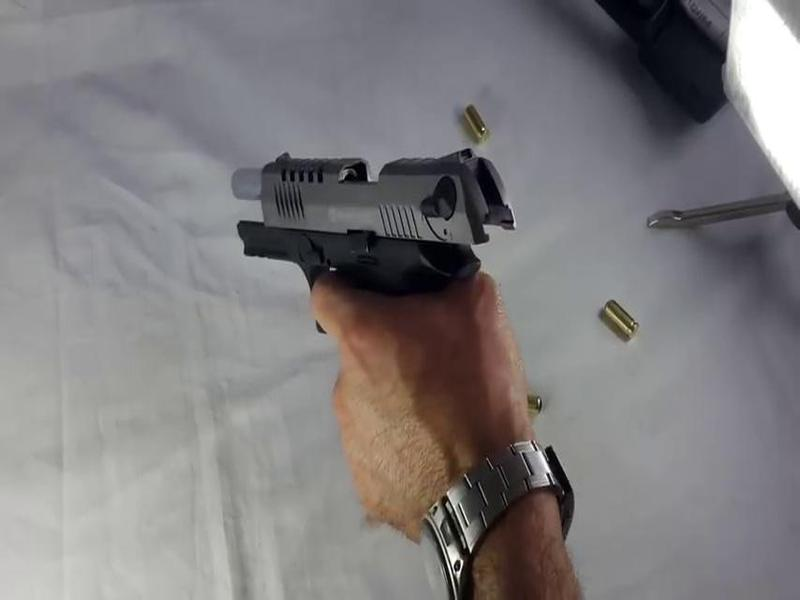Pistola: (201, 122, 533, 399)
